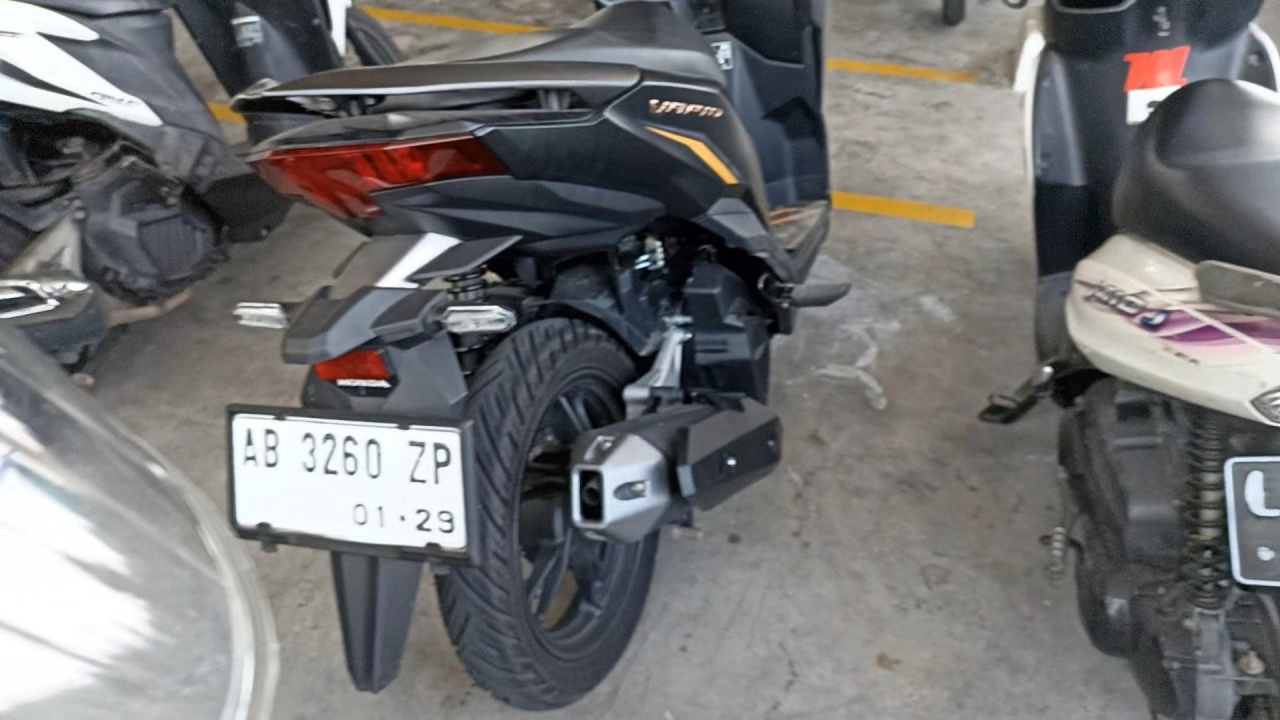plate: (229, 411, 471, 555)
